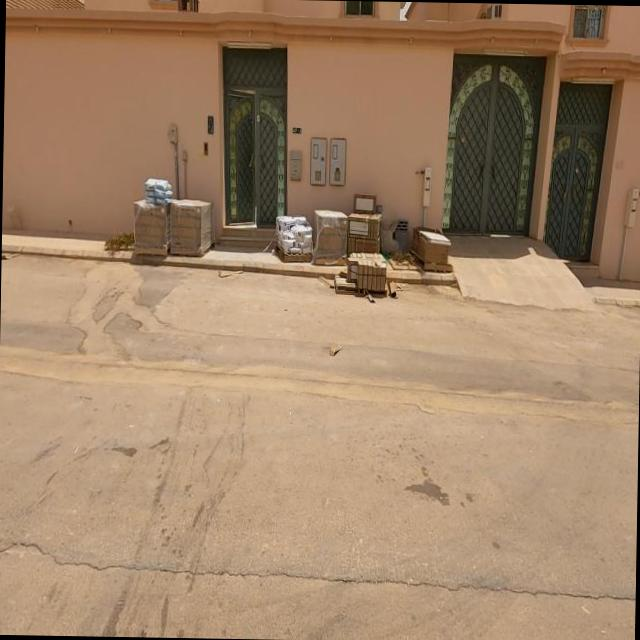debris: (354, 162, 445, 316)
